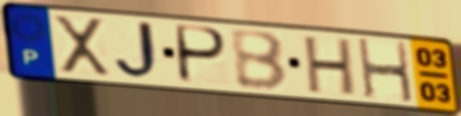B: (227, 29, 290, 93)
H: (355, 37, 417, 105), (302, 35, 357, 98)
J: (113, 19, 167, 82)
P: (175, 23, 230, 87)
X: (50, 13, 114, 78)
